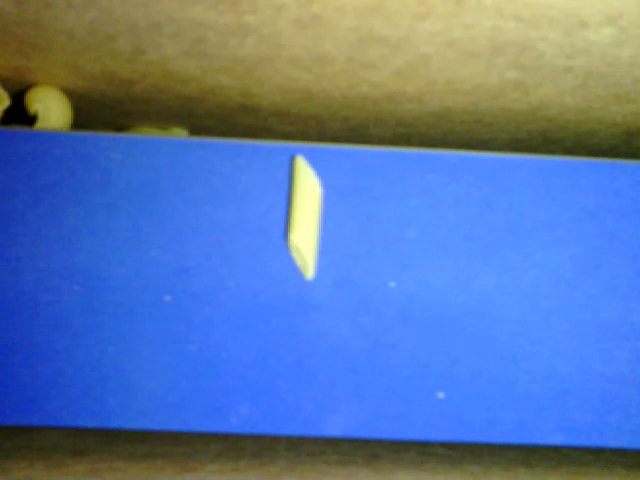penne: (288, 153, 323, 284)
shell: (23, 83, 77, 134)
